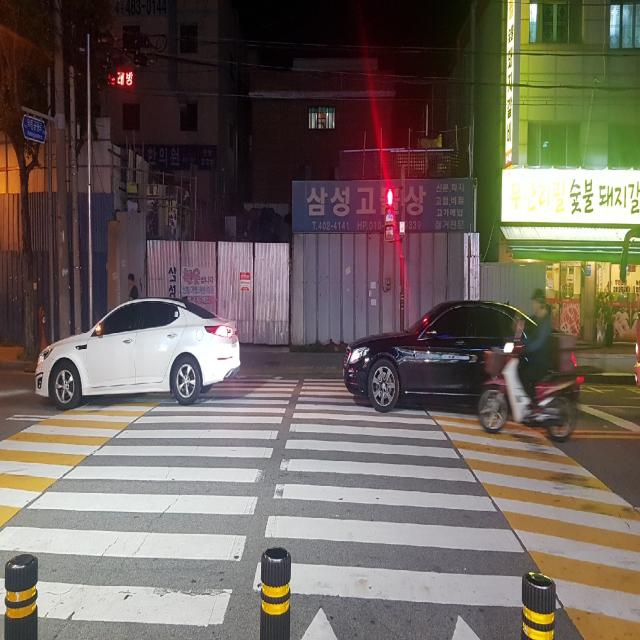횡단보도: (0, 372, 565, 640)
